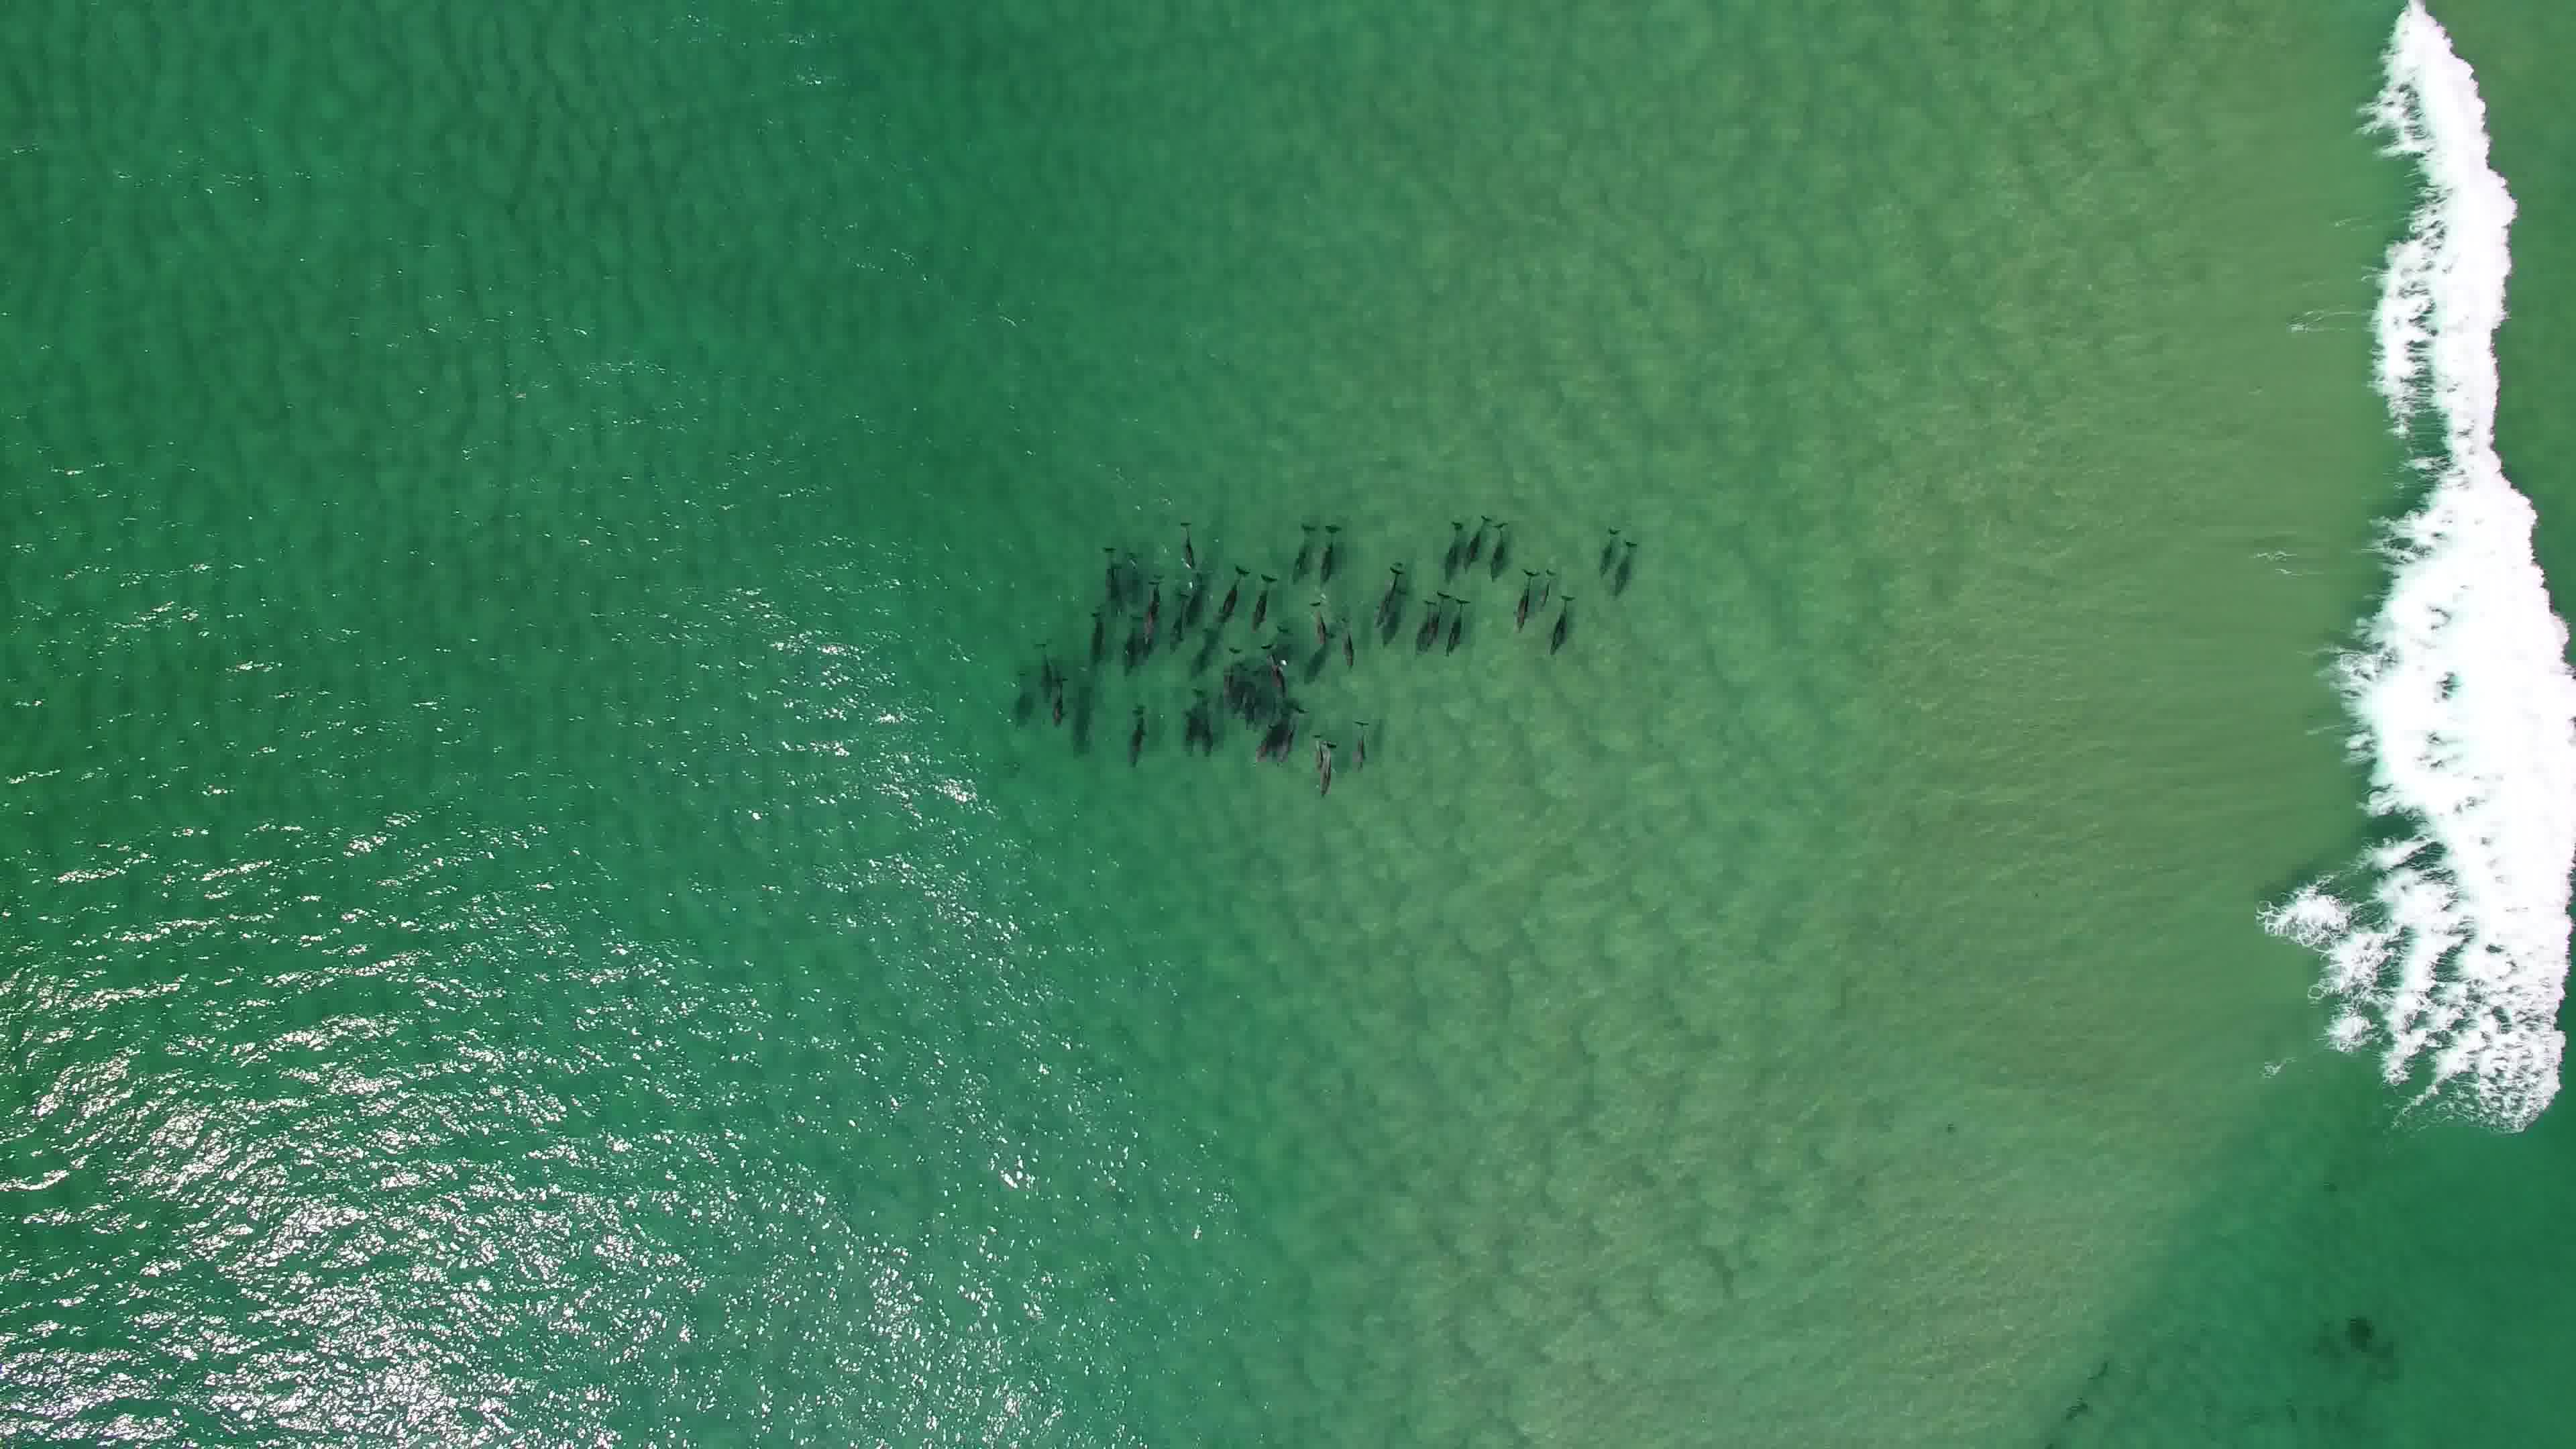dolphin: (1088, 534, 1132, 619), (1031, 653, 1079, 727), (1307, 511, 1350, 594), (1537, 579, 1580, 660), (1364, 552, 1405, 635), (1327, 603, 1369, 683), (1244, 566, 1284, 644), (1214, 552, 1249, 640), (1343, 713, 1384, 789), (1304, 727, 1343, 805), (1180, 690, 1223, 759), (1435, 589, 1477, 656), (1481, 510, 1513, 593), (1506, 561, 1541, 635), (1261, 701, 1299, 771), (1435, 513, 1470, 586), (1214, 639, 1249, 711), (1134, 573, 1171, 642), (1028, 630, 1060, 709), (1118, 702, 1155, 770), (1610, 531, 1642, 609), (1300, 587, 1334, 658), (1169, 502, 1201, 575), (1286, 513, 1313, 591), (1251, 640, 1290, 694), (1461, 504, 1490, 577), (1591, 518, 1621, 586), (1428, 575, 1449, 663), (1417, 589, 1440, 648), (1534, 559, 1557, 616)
